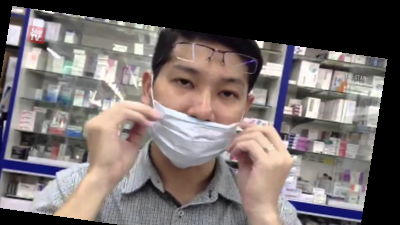mask_weared_incorrect: (129, 19, 269, 173)
